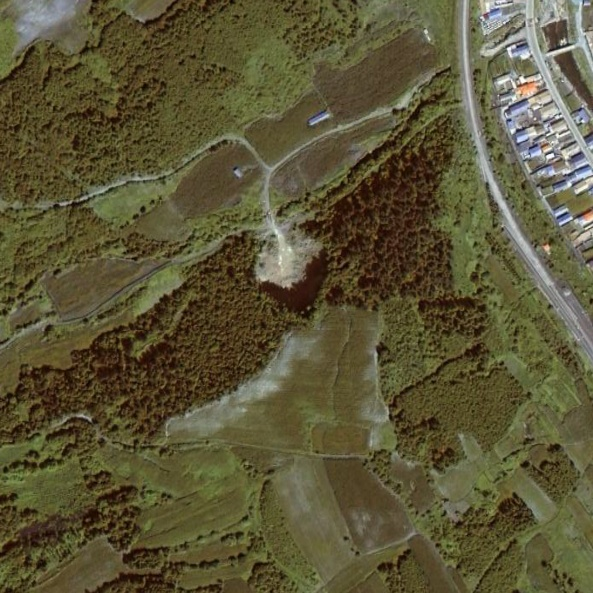slope: (250, 207, 321, 290)
